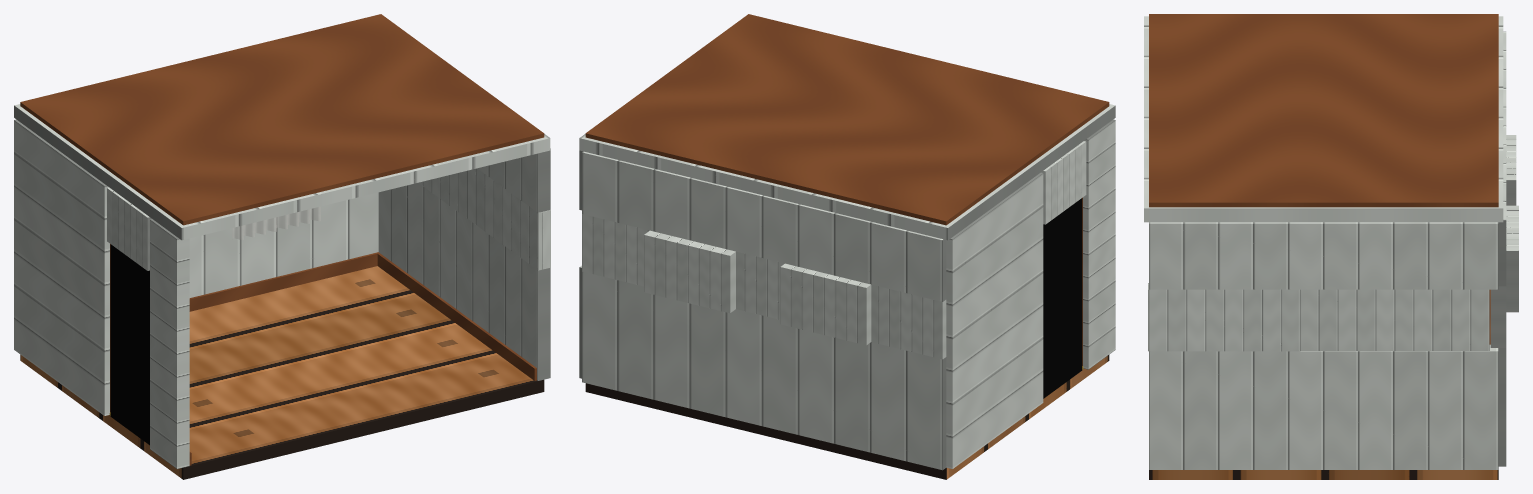
Rendered from schiff_innen.glb.
The picture shows the model from 3 angles, left to right: view 1: azimuth 30°, elevation 25°; view 2: azimuth 150°, elevation 25°; view 3: azimuth 270°, elevation 25°; orthographic projection. The views are drawn at different scales.
Visible parts, largest first — view 1: Room_Roof_Cap, Room_Floor_Deck, Wall_Left_Rear, Wall_Right_Lower, Wall_Back_Lower, Wall_Left_Front, Room_Roof_Ceiling, Portal_Black_Hole_Exit, Wall_Right_FrontPillar, Trim_Baseboard_Back, Wall_Right_Upper, Trim_Baseboard_Right (+3 smaller); view 2: Room_Roof_Cap, Wall_Back_Lower, Wall_Back_Upper, Wall_Left_Rear, Room_Roof_Ceiling, Wall_Left_Front, Portal_Black_Hole_Exit, Wall_Back_RightPillar.001, Wall_Back_RightPillar.002, Room_Floor_Deck, Wall_Back_LeftPillar, Wall_Back_RightPillar (+2 smaller); view 3: Room_Roof_Cap, Wall_Right_Lower, Wall_Right_Upper, Wall_Right_FrontPillar.001, Wall_Right_FrontPillar, Room_Roof_Ceiling, Room_Floor_Deck, Wall_Back_RightPillar.001, Wall_Back_Upper, Wall_Back_Lower, Wall_Back_RightPillar, Wall_Back_RightPillar.002.
Boxes of the visible parts, x1,y1,x2,y2 form: Room_Roof_Cap: [20, 14, 544, 225]; Room_Floor_Deck: [20, 266, 544, 479]; Wall_Left_Rear: [14, 119, 109, 415]; Wall_Right_Lower: [378, 183, 550, 380]; Wall_Back_Lower: [189, 192, 378, 297]; Wall_Left_Front: [150, 219, 189, 468]; Room_Roof_Ceiling: [14, 104, 550, 240]; Portal_Black_Hole_Exit: [110, 244, 149, 445]; Wall_Right_FrontPillar: [467, 168, 550, 270]; Trim_Baseboard_Back: [189, 253, 377, 311]; Wall_Right_Upper: [477, 148, 550, 212]; Trim_Baseboard_Right: [376, 252, 536, 380]; Room_Roof_Cap: [585, 14, 1109, 225]; Wall_Back_Lower: [582, 271, 946, 470]; Wall_Back_Upper: [582, 151, 946, 301]; Wall_Left_Rear: [946, 172, 1043, 468]; Room_Roof_Ceiling: [579, 104, 1115, 240]; Wall_Left_Front: [1083, 119, 1115, 369]; Portal_Black_Hole_Exit: [1043, 198, 1082, 398]; Wall_Back_RightPillar.001: [644, 230, 735, 313]; Wall_Back_RightPillar.002: [780, 263, 871, 345]; Room_Floor_Deck: [585, 355, 1109, 479]; Wall_Back_LeftPillar: [871, 284, 946, 359]; Wall_Back_RightPillar: [582, 214, 649, 286]; Room_Roof_Cap: [1149, 14, 1498, 207]; Wall_Right_Lower: [1149, 344, 1498, 469]; Wall_Right_Upper: [1149, 222, 1498, 289]; Wall_Right_FrontPillar.001: [1300, 289, 1489, 350]; Wall_Right_FrontPillar: [1148, 283, 1300, 351]; Room_Roof_Ceiling: [1144, 16, 1503, 222]; Room_Floor_Deck: [1149, 470, 1498, 479]; Wall_Back_RightPillar.001: [1506, 205, 1518, 312]; Wall_Back_Upper: [1498, 31, 1506, 286]; Wall_Back_Lower: [1498, 348, 1506, 466]; Wall_Back_RightPillar: [1490, 286, 1506, 347]; Wall_Back_RightPillar.002: [1506, 135, 1516, 205].
Size of the model in its own units: 4.76 by 3.15 by 3.86.
Materials: 12 (11 with a texture image).
